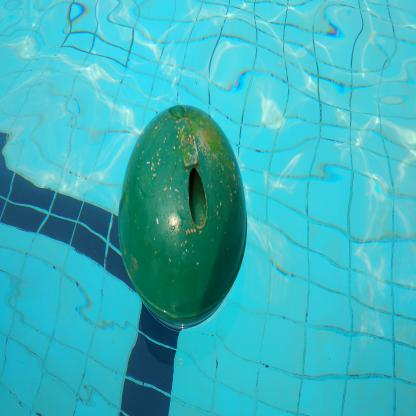green_buoy: (112, 102, 254, 336)
